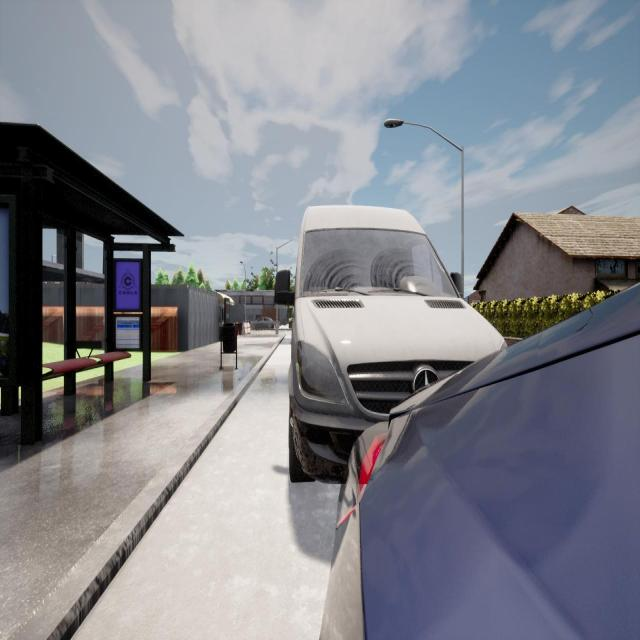Vehicle: (320, 281, 640, 640), (287, 202, 509, 481), (251, 316, 274, 332)
